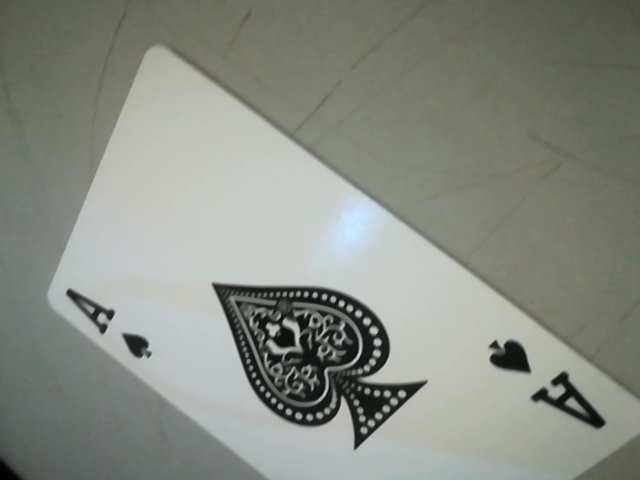ht a: (41, 283, 173, 372)
